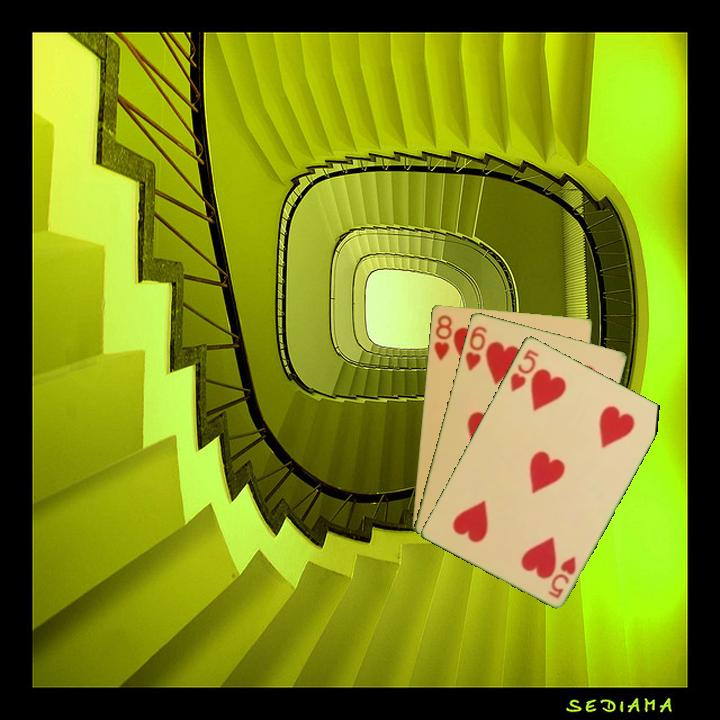5h: (506, 345, 542, 395), (545, 552, 579, 601)
6h: (461, 322, 490, 373)
8h: (430, 311, 455, 363)
